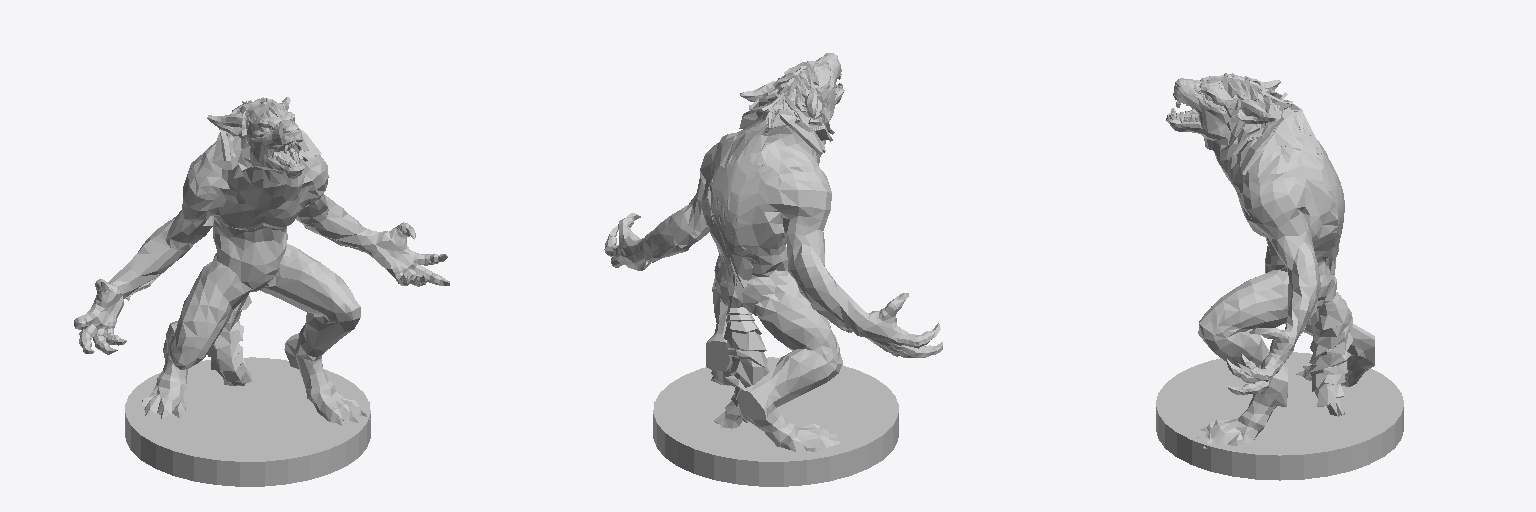
Rendered from Werewolf.obj.
The picture shows the model from 3 angles: view 1: azimuth 30°, elevation 25°; view 2: azimuth 150°, elevation 25°; view 3: azimuth 270°, elevation 25°; orthographic projection.
Parts seen in each view (by area): view 1: Werewolf_for_printing; view 2: Werewolf_for_printing; view 3: Werewolf_for_printing.
Part boxes in pixels (x1,y1,x2,y2): Werewolf_for_printing: (74, 97, 449, 486); Werewolf_for_printing: (604, 53, 942, 486); Werewolf_for_printing: (1156, 73, 1403, 480).
Size of the model in its own units: 1.92 by 1.86 by 1.19.